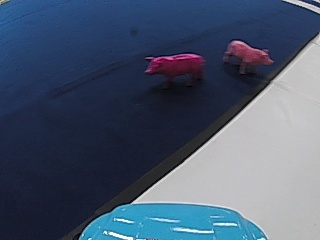pig: (141, 48, 206, 89), (221, 37, 274, 77)
